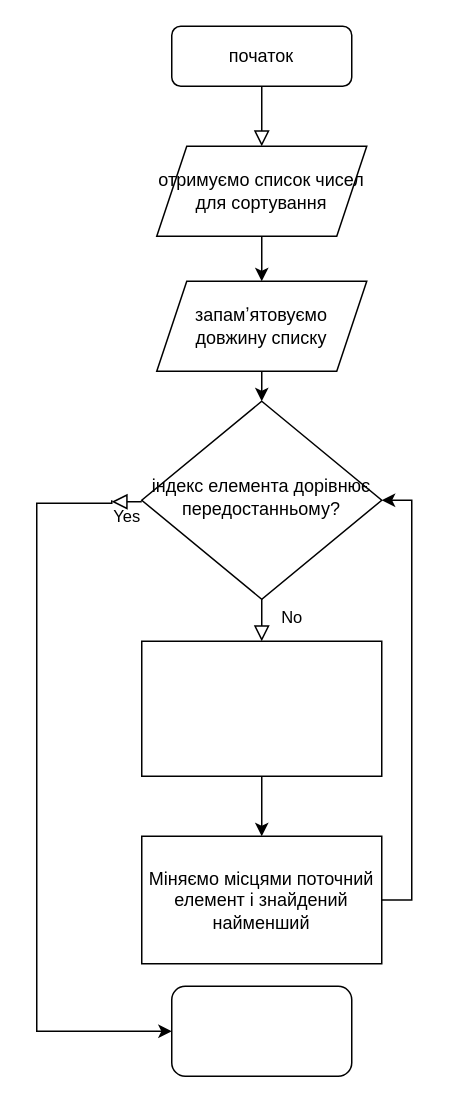
The diagram is 450 pixels wide and 1103 high, and some of its shapes have lost their labels. Here are the shapes that lost their labels. From the top down, the centre of each, then its label:
point 261,708: находимо позицію найменшого елемента (smallestPosition) у частині списка
point 261,1030: список відсортовано
